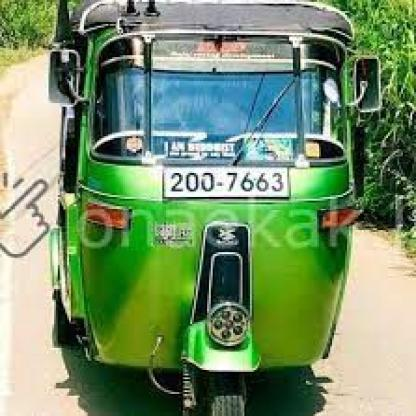number plate: (163, 165, 290, 197)
three wheeler front: (40, 0, 382, 416)
